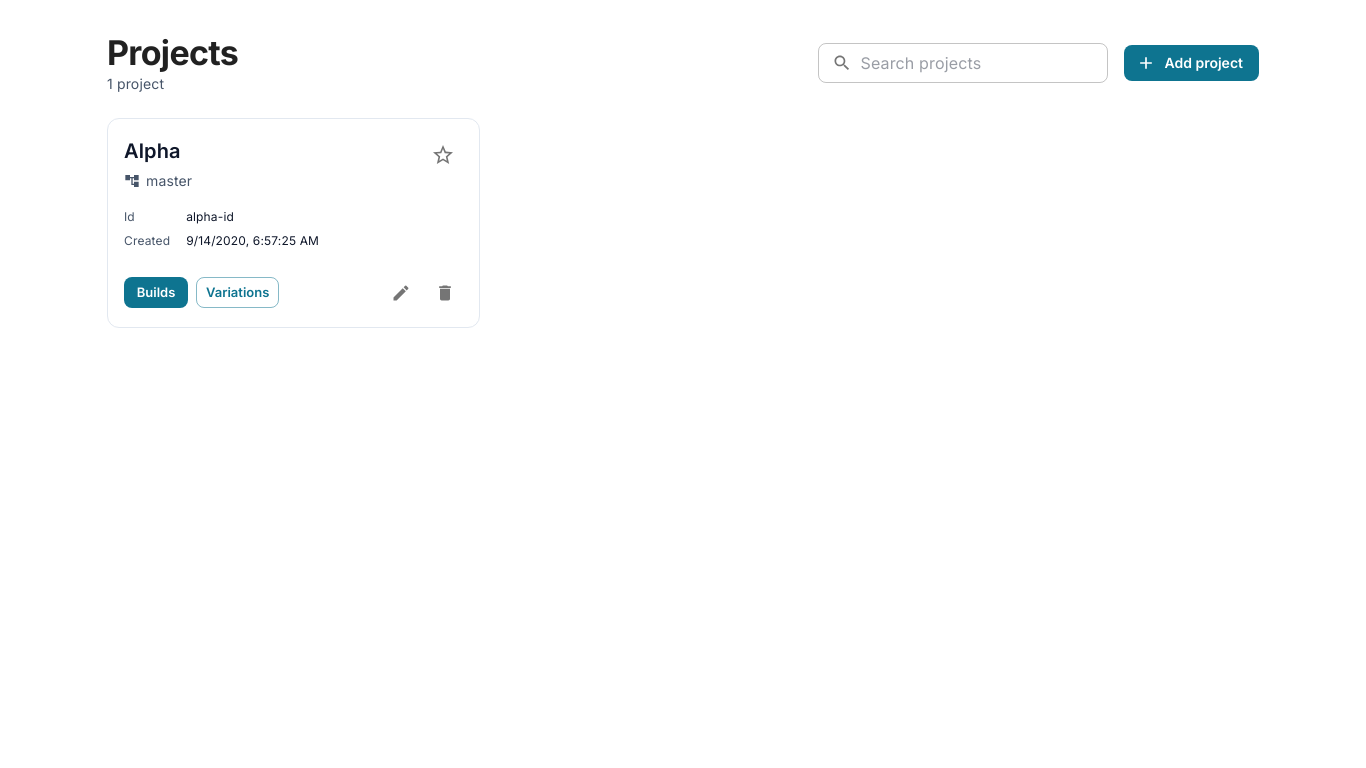
Test: ProjectListPage › takes the star back and says why when starring fails
The image size is (1366, 768).
expect the heading "Alpha" is shown: met, box left=124, top=139, right=181, bottom=163
What coordinates should you click on to do the following:
click the button named "Add to favourites"
I would click on:
 (443, 155)
Its box is left=423, top=135, right=463, bottom=175.
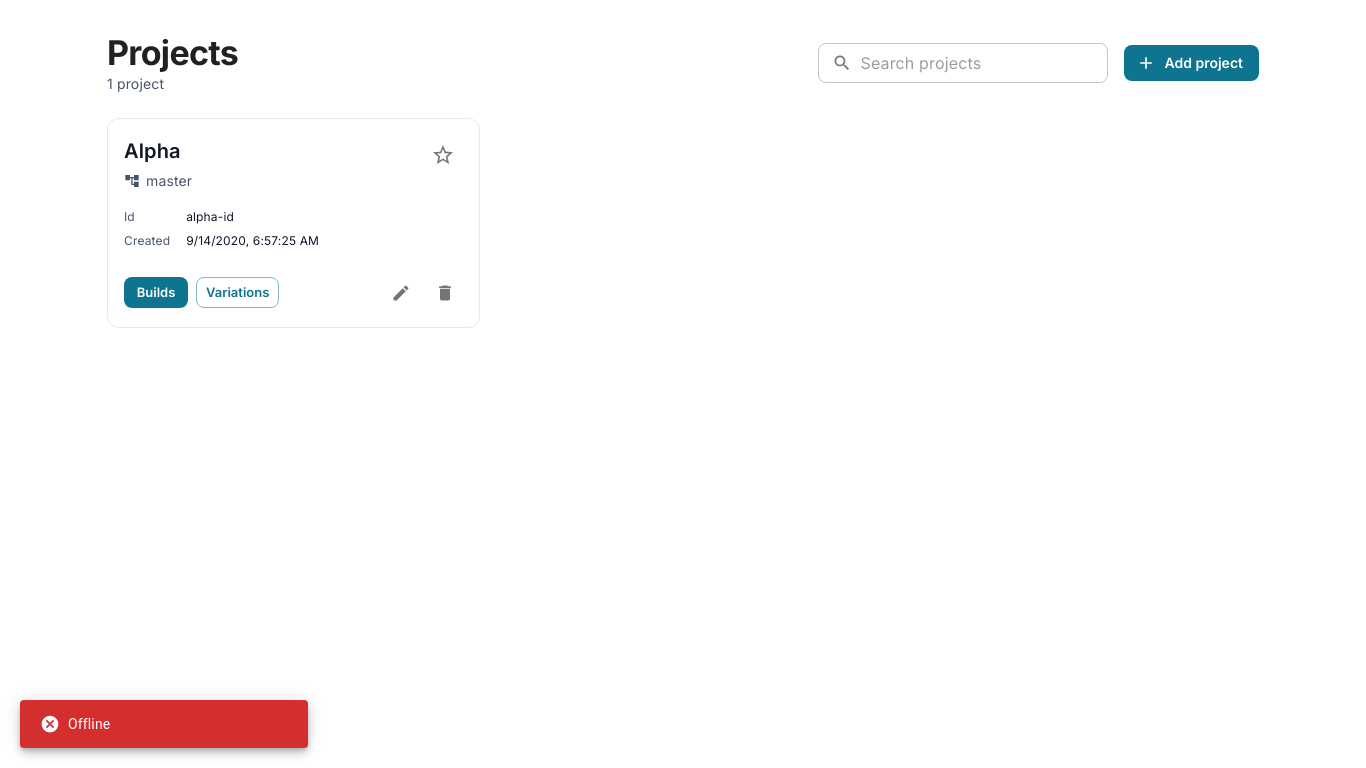
expect the text "Offline" is shown: met, box left=40, top=714, right=110, bottom=734
